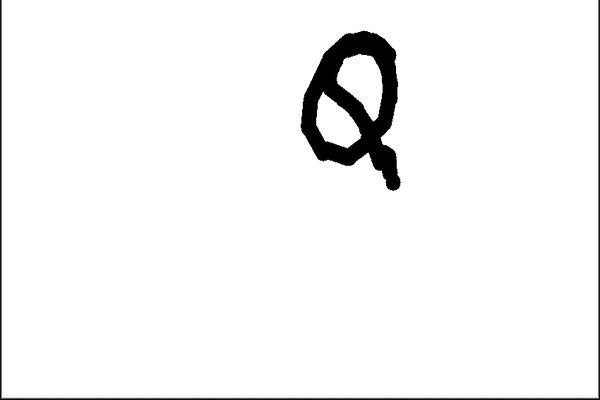Q: (282, 24, 414, 197)
